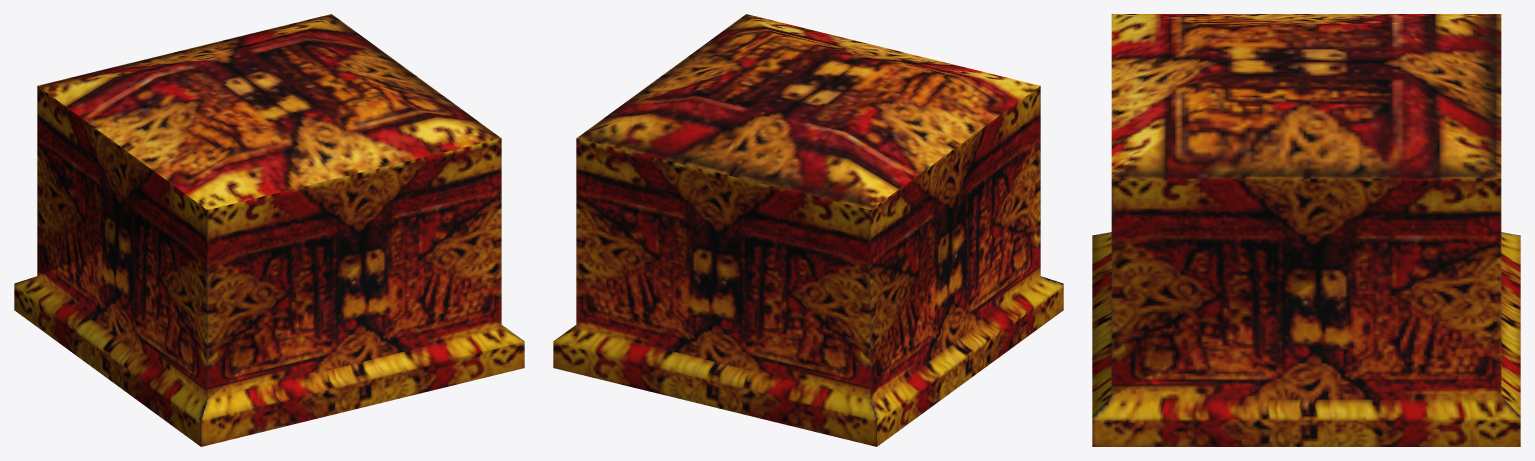
Rendered from IPItem02.FBX.
3 views of the same model, side by side, from view 1: azimuth 30°, elevation 25°; view 2: azimuth 150°, elevation 25°; view 3: azimuth 270°, elevation 25° (orthographic). The views are drawn at different scales.
Parts seen in each view (by area): view 1: IPItem02; view 2: IPItem02; view 3: IPItem02.
Part boxes in pixels (bbox=[...]): IPItem02: bbox=[14, 14, 524, 446]; IPItem02: bbox=[553, 14, 1063, 446]; IPItem02: bbox=[1092, 14, 1520, 446].
Bounding box in the file's own units: 10.03 × 7.48 × 10.03.
Materials: 1 (1 with a texture image).
